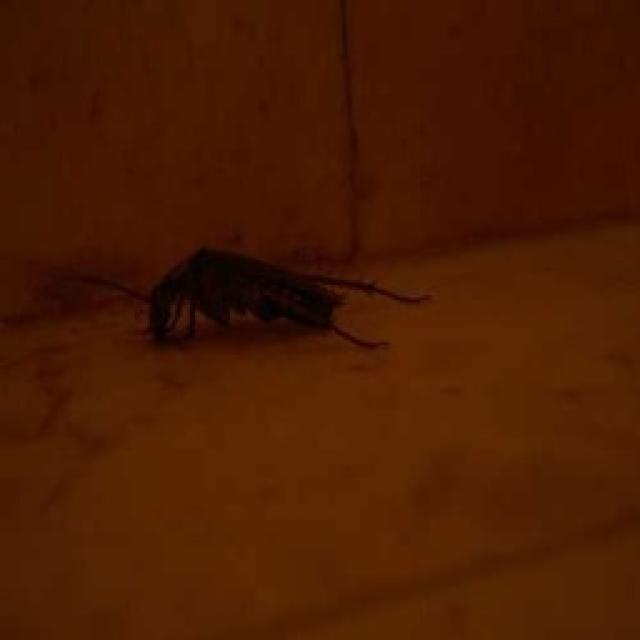cockroach: (116, 211, 414, 371)
